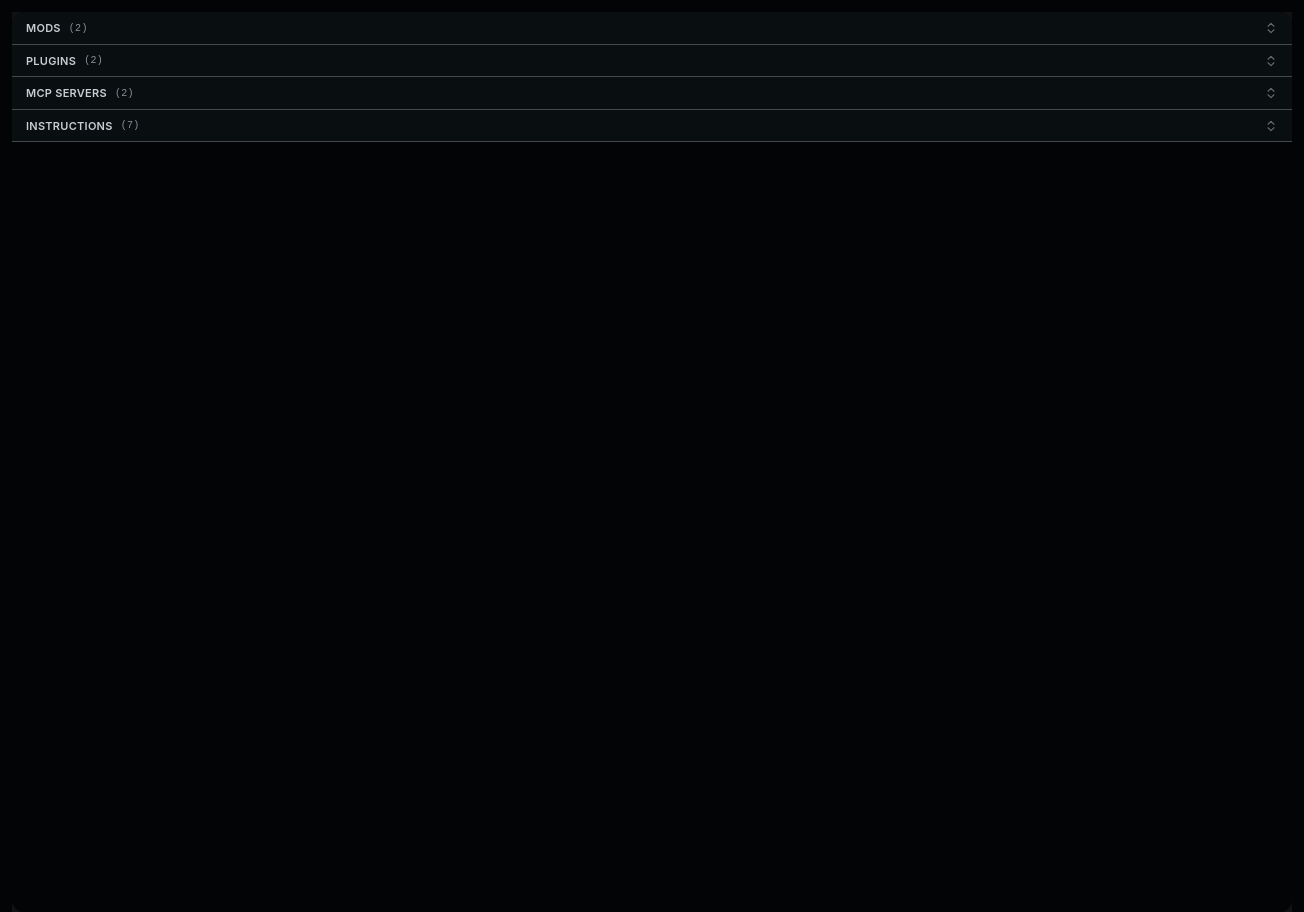
Test: SessionContextPanel › says what each mod can do
Click the button "Mods (2)" at (43, 28), box x1=12 y1=12 x2=1292 y2=44
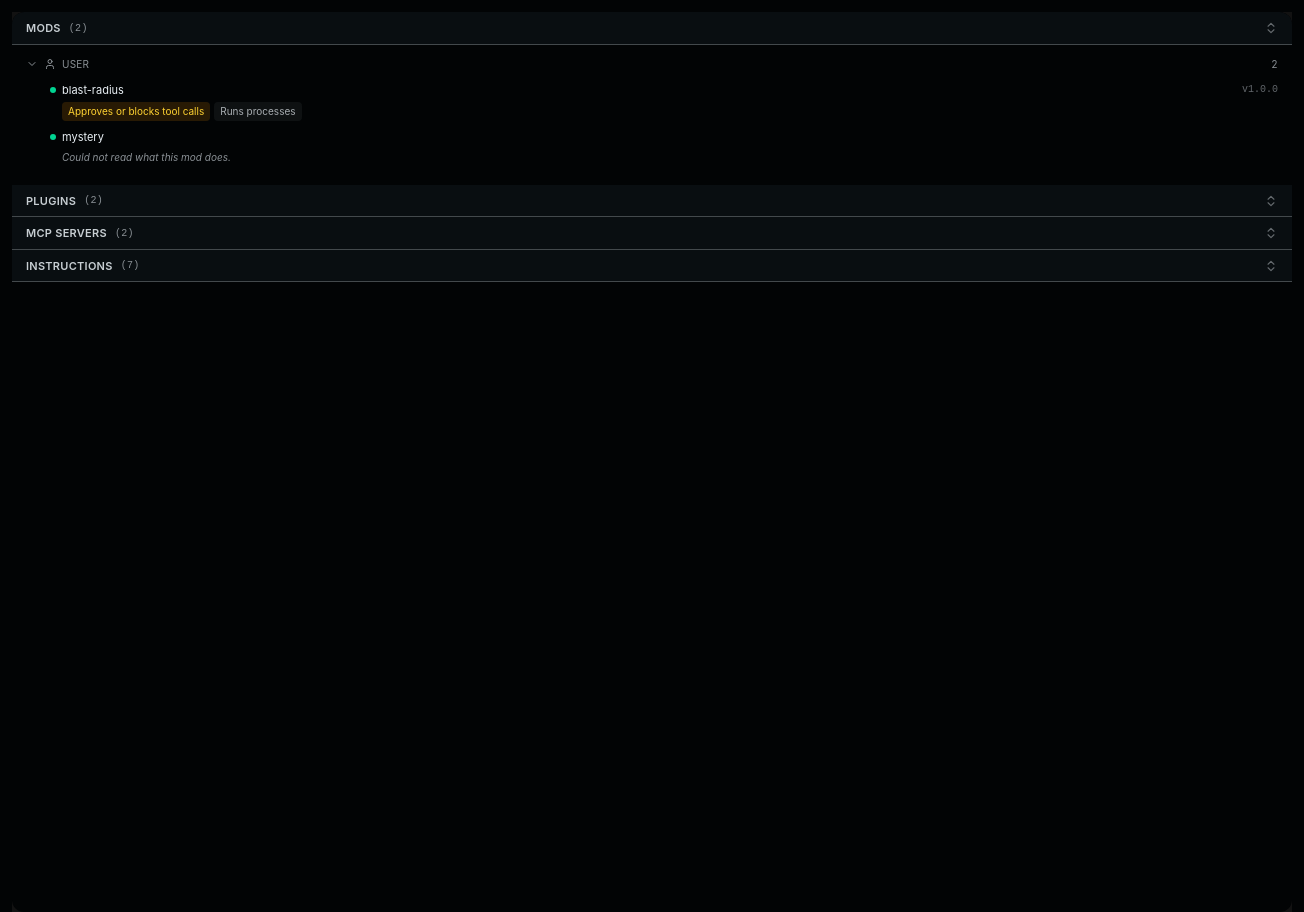
Now the text "Approves or blocks tool calls" is shown, box x1=62 y1=102 x2=210 y2=121
Now the text "Runs processes" is shown, box x1=214 y1=102 x2=302 y2=121
